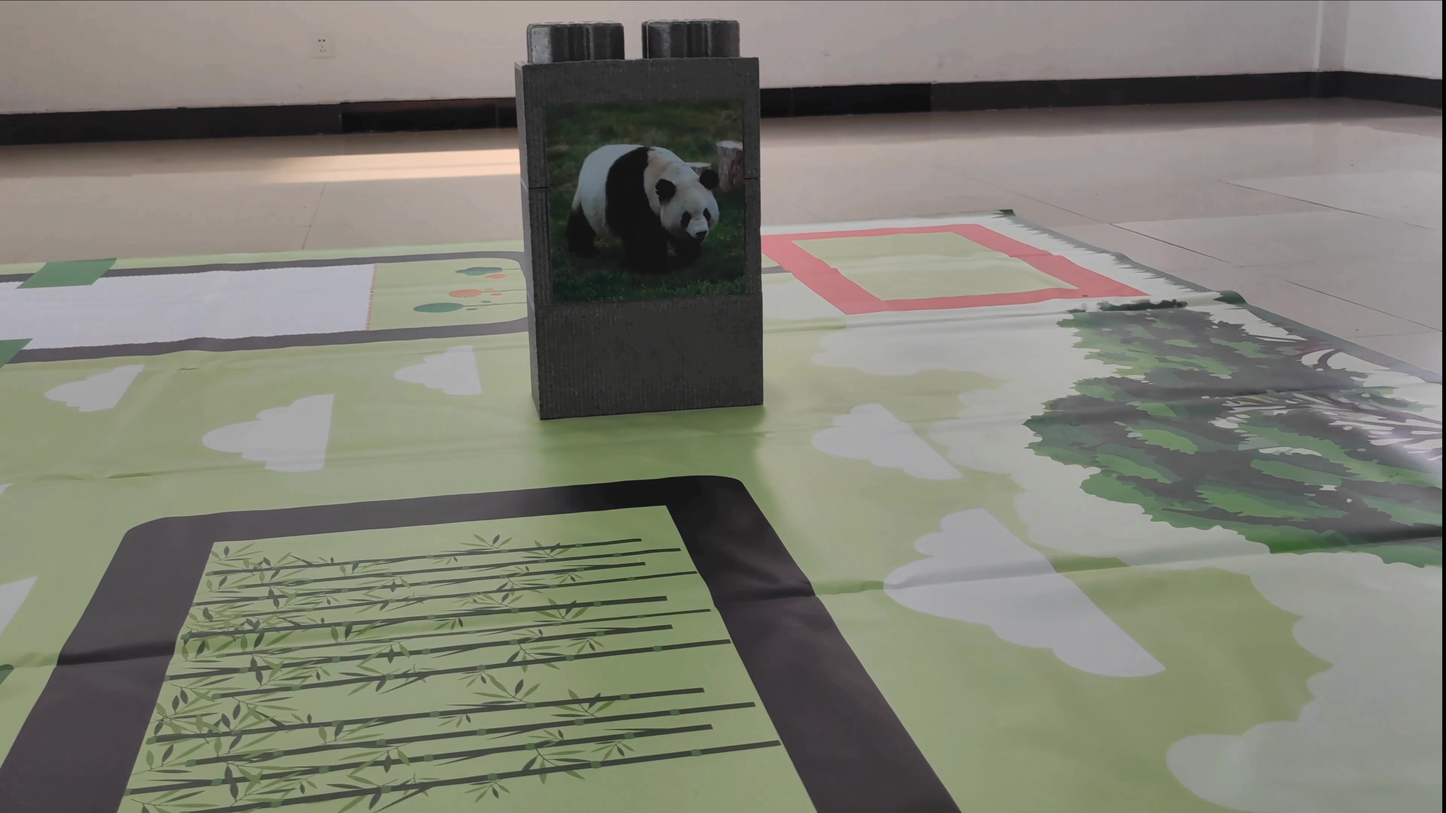panda: (554, 102, 742, 302)
